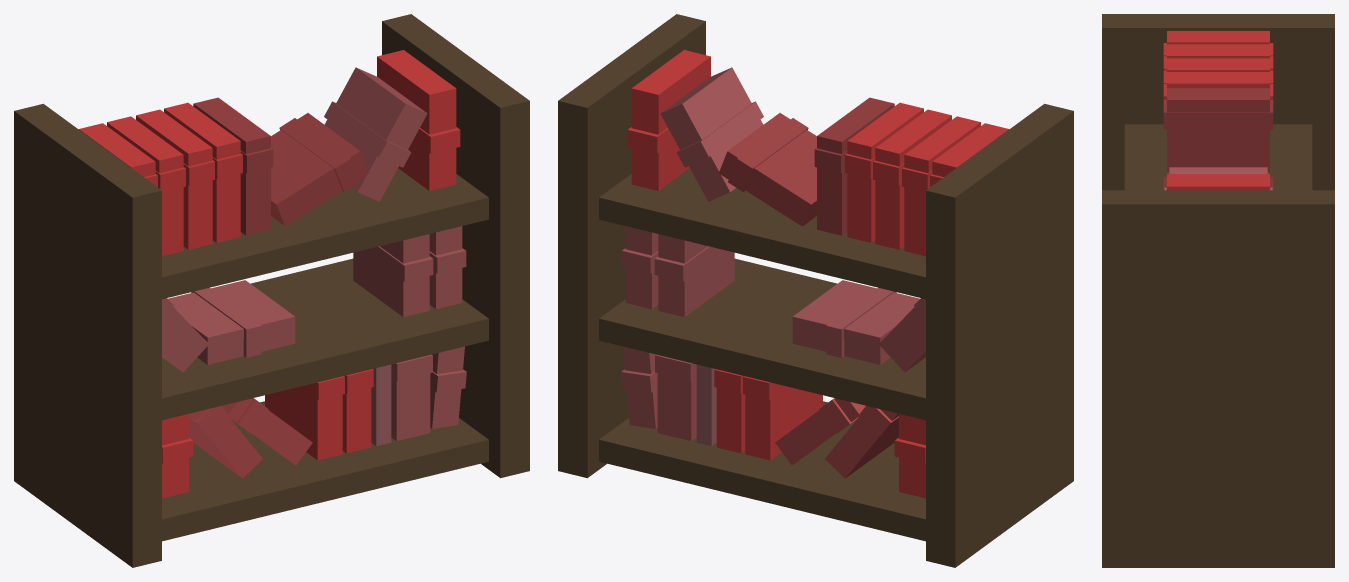
Rendered from BookshelfT4-convcol.glb.
The picture shows the model from 3 angles, left to right: view 1: azimuth 30°, elevation 25°; view 2: azimuth 150°, elevation 25°; view 3: azimuth 270°, elevation 25°; orthographic projection.
Visible parts, largest first — view 1: Cube-convcol.011, BOOK2.008, Cube.012, Cube.008, Cube.009, BOOK2.009, BOOK.011, BOOK2.010, BOOK.002, BOOK2.006, BOOK.010, BOOK.001 (+4 smaller); view 2: Cube-convcol.011, BOOK2.008, Cube.012, Cube.008, Cube.009, BOOK2.009, BOOK.011, BOOK2.010, BOOK.002, BOOK2.006, BOOK.010, BOOK.001 (+4 smaller); view 3: Cube-convcol.011, BOOK.010, BOOK2.008, Cube.009, BOOK2.009.
Part boxes in pixels (x1,y1,x2,y2): Cube-convcol.011: [14, 14, 529, 567]; BOOK2.008: [78, 50, 460, 498]; Cube.012: [162, 258, 488, 420]; Cube.008: [162, 401, 488, 541]; Cube.009: [162, 168, 488, 299]; BOOK2.009: [324, 67, 427, 201]; BOOK.011: [271, 113, 368, 226]; BOOK2.010: [168, 280, 295, 364]; BOOK.002: [189, 398, 312, 478]; BOOK2.006: [353, 234, 433, 317]; BOOK.010: [193, 97, 273, 235]; BOOK.001: [391, 354, 432, 441]; Cube-convcol.011: [558, 14, 1073, 567]; BOOK2.008: [627, 50, 1009, 498]; Cube.012: [599, 258, 925, 420]; Cube.008: [599, 401, 925, 541]; Cube.009: [599, 168, 925, 299]; BOOK2.009: [660, 67, 763, 201]; BOOK.011: [719, 113, 816, 226]; BOOK2.010: [792, 280, 919, 364]; BOOK.002: [775, 398, 898, 478]; BOOK2.006: [654, 234, 734, 317]; BOOK.010: [814, 97, 894, 235]; BOOK.001: [655, 354, 696, 441]; Cube-convcol.011: [1102, 14, 1334, 567]; BOOK.010: [1163, 88, 1273, 171]; BOOK2.008: [1163, 31, 1273, 190]; Cube.009: [1124, 124, 1312, 190]; BOOK2.009: [1164, 167, 1272, 190].
Bounding box in the file's own units: 3.43 × 3.06 × 1.78.
8 materials, 2 textured.
